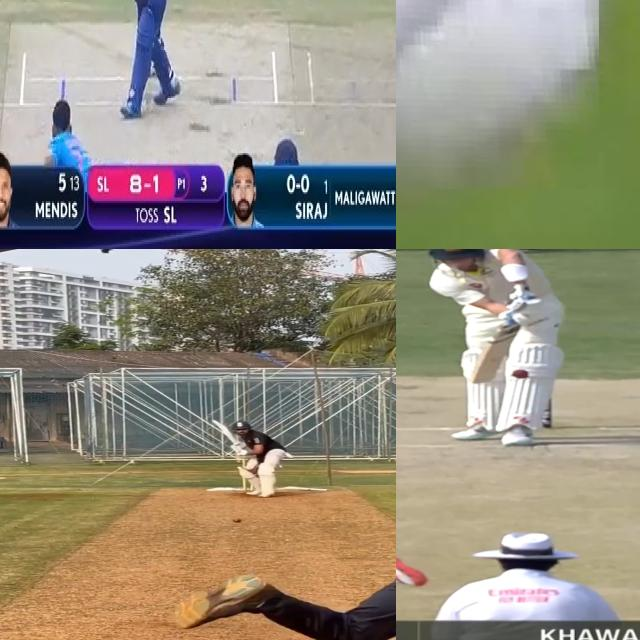Cricket ball: (396, 0, 599, 189), (510, 368, 530, 380), (232, 518, 242, 523)
